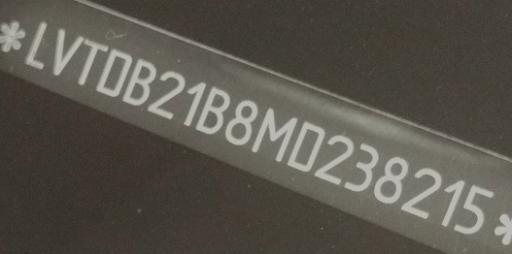letter: (249, 105, 299, 163), (400, 165, 442, 218), (313, 133, 355, 185), (452, 184, 494, 235), (145, 69, 187, 120), (286, 118, 324, 172), (94, 47, 134, 98), (195, 84, 231, 134), (344, 141, 378, 192), (75, 36, 109, 87), (223, 98, 259, 146), (373, 155, 409, 202), (120, 58, 156, 105), (51, 26, 85, 75), (440, 175, 464, 226), (182, 80, 208, 127), (24, 20, 46, 71)
